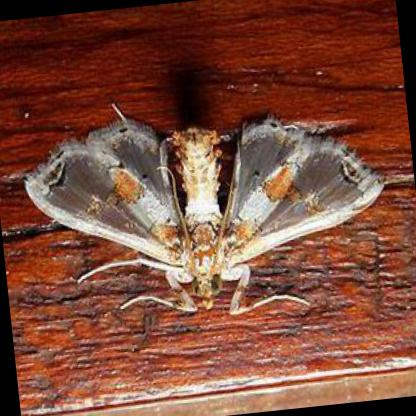leucinodes: (23, 118, 384, 313)
